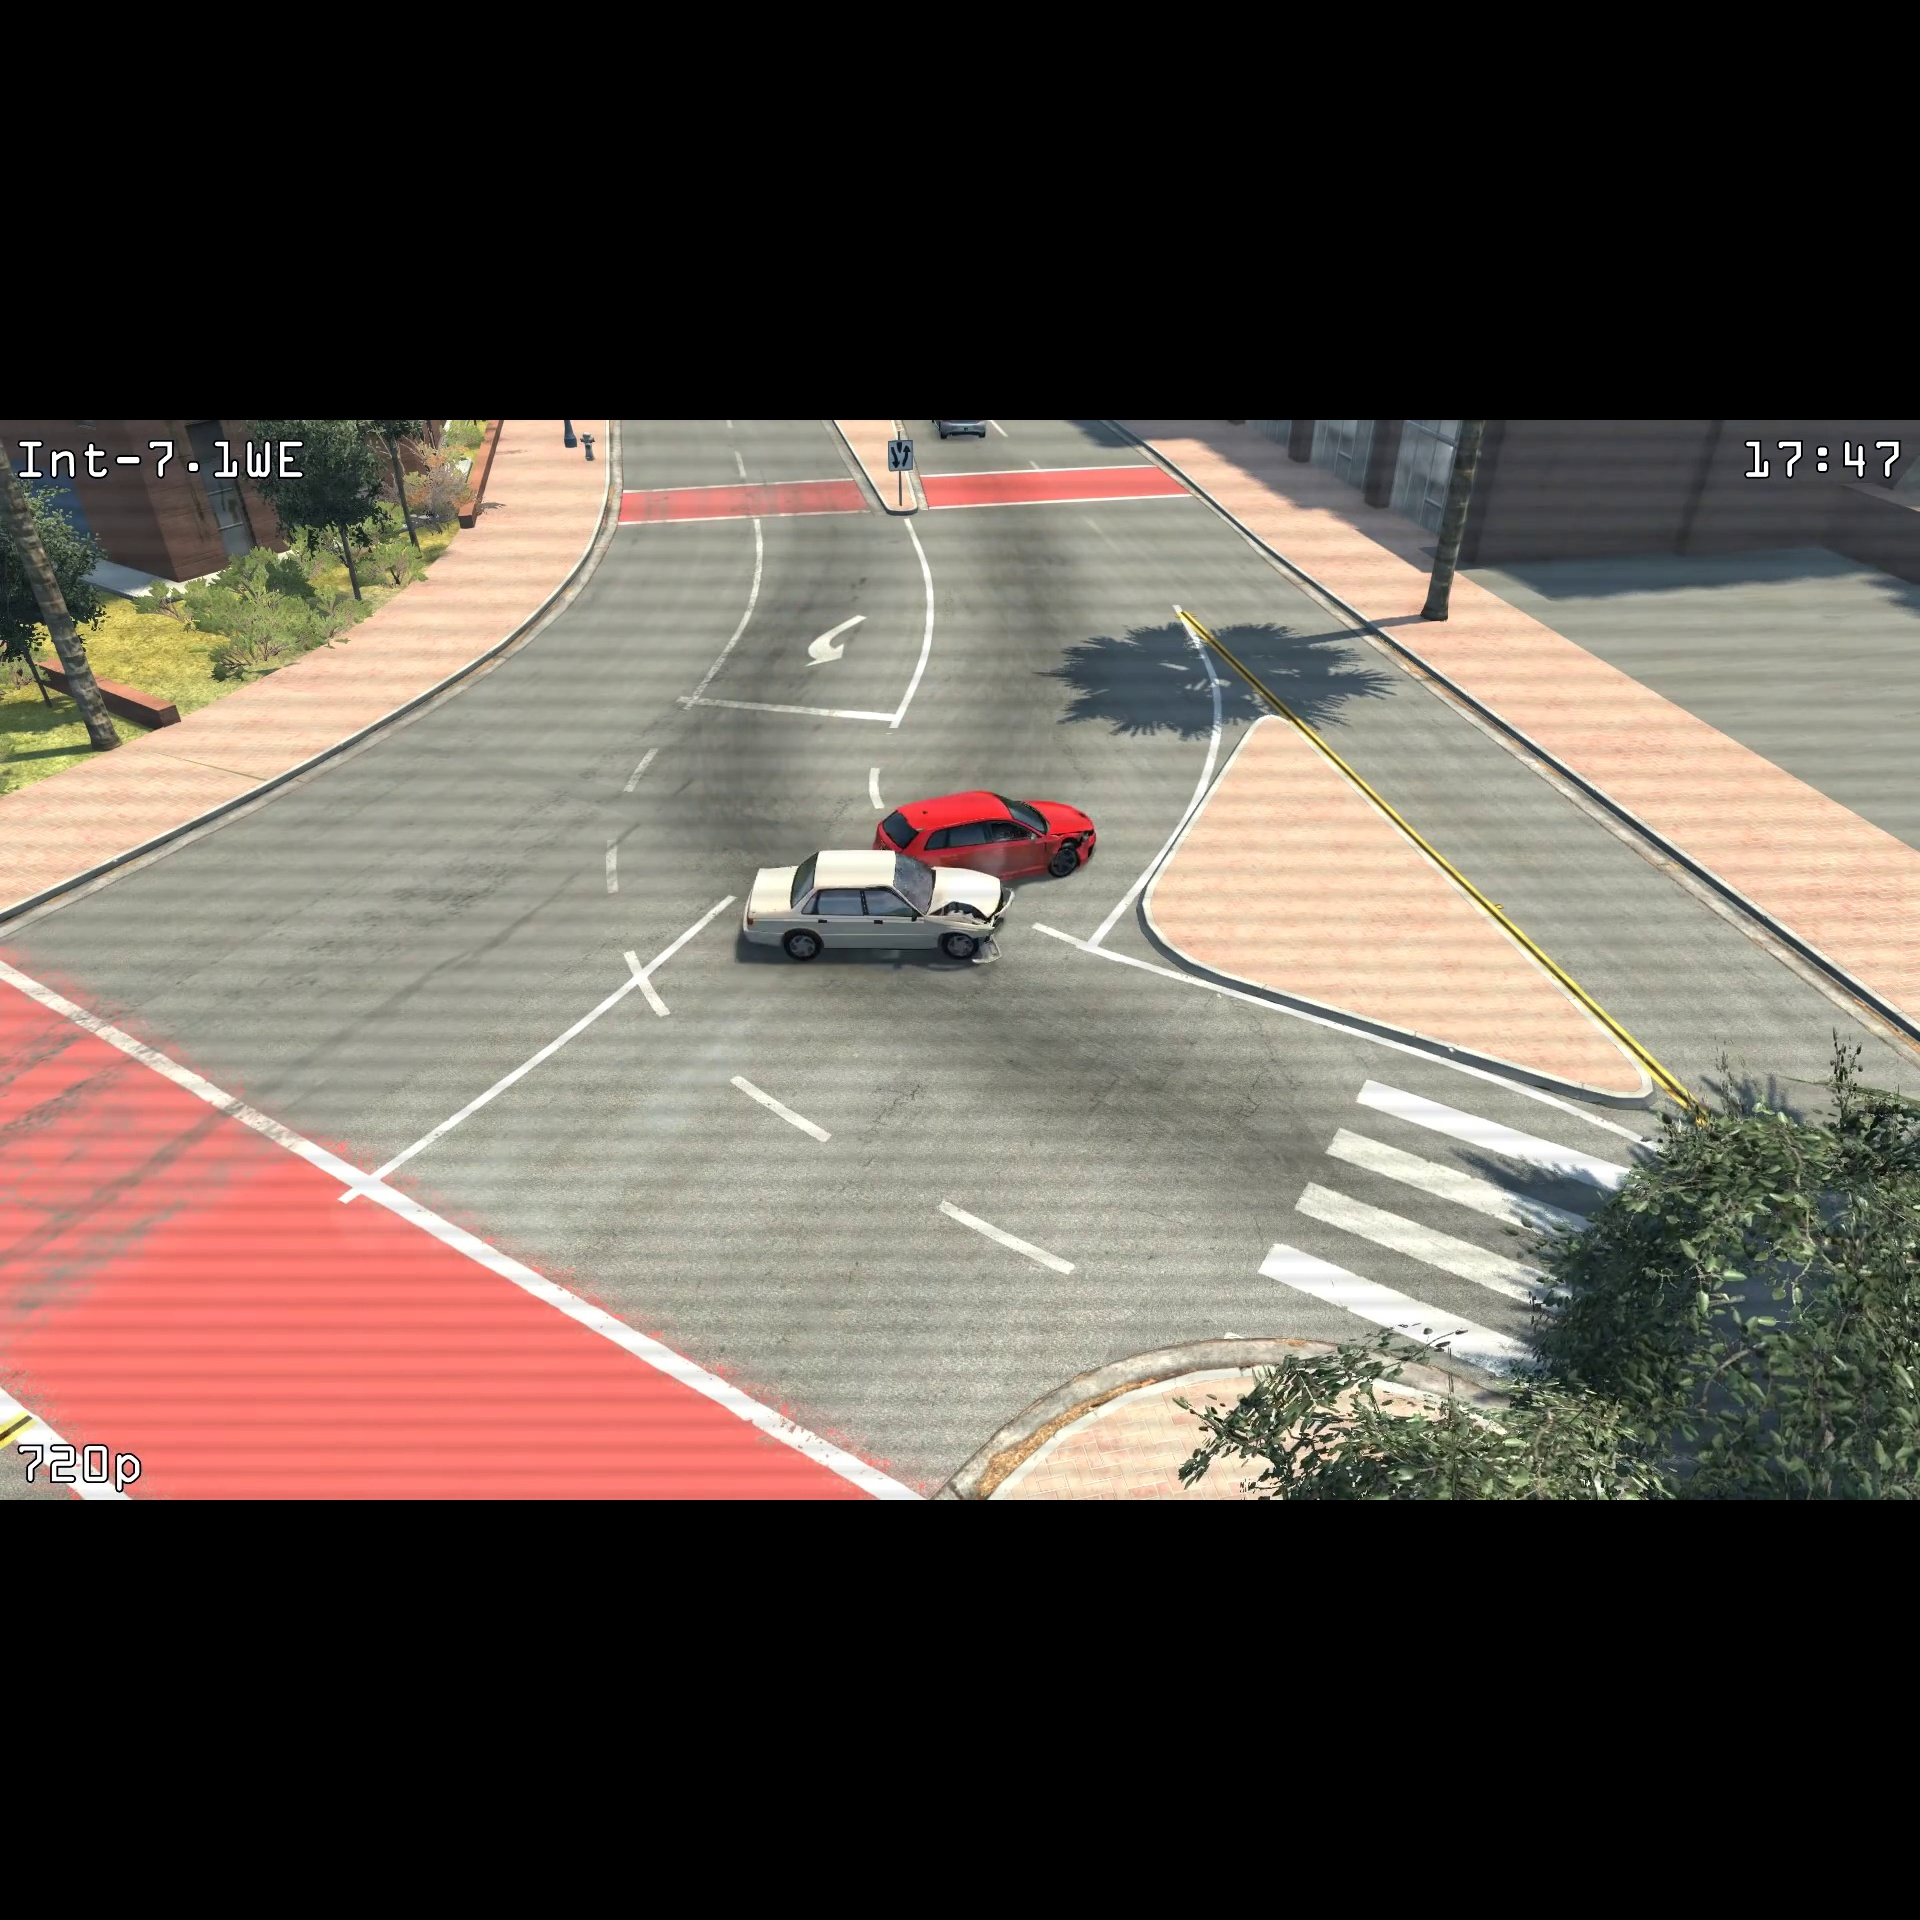vehicle: (737, 847, 1020, 971), (870, 788, 1108, 874)
